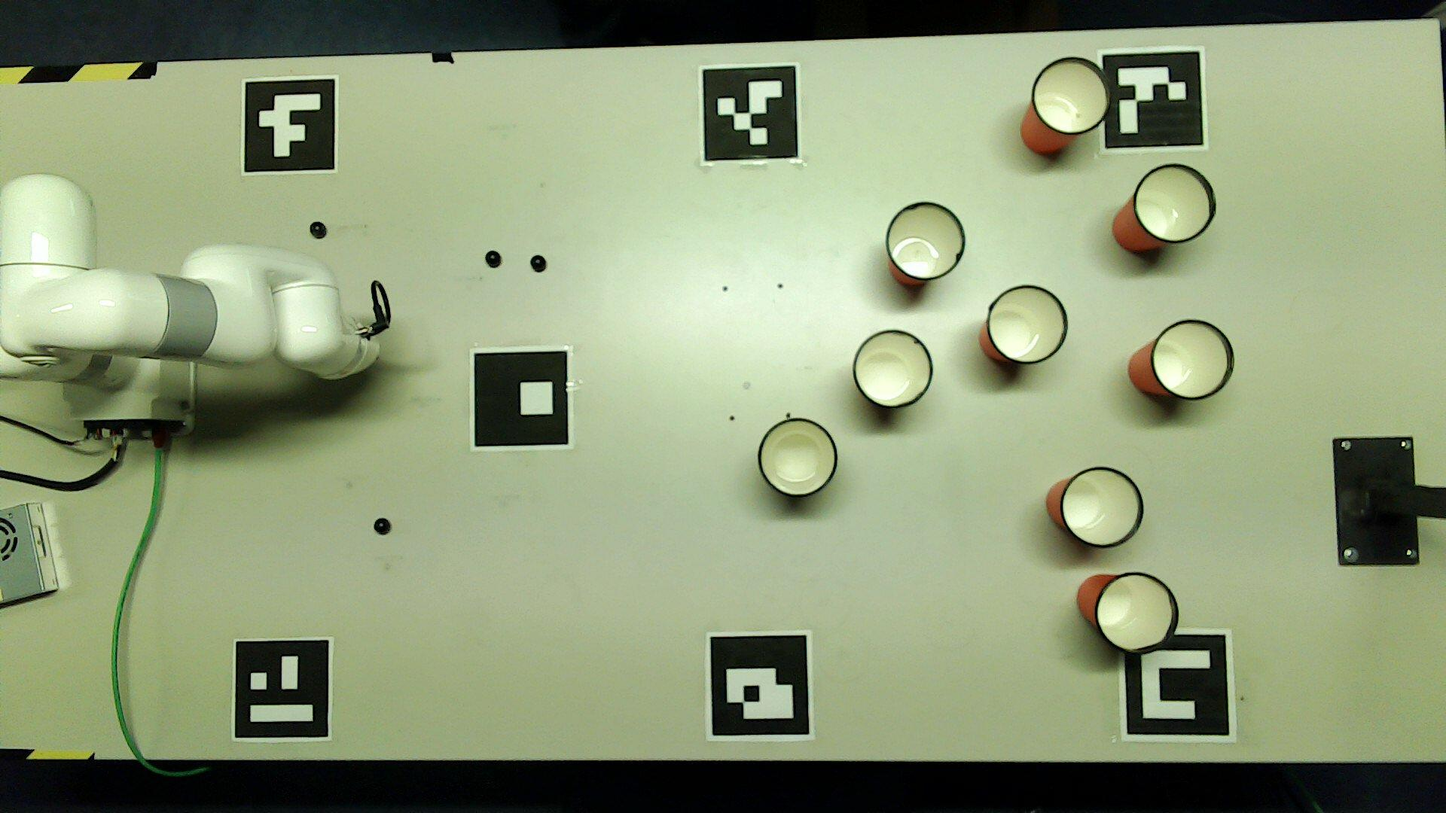ball: (310, 222, 326, 238), (487, 252, 500, 266), (532, 257, 544, 271), (376, 520, 388, 533)
cup: (1063, 468, 1141, 546), (1097, 574, 1175, 651), (1153, 321, 1231, 397), (855, 332, 931, 407), (990, 286, 1066, 361), (1137, 167, 1213, 241), (760, 420, 835, 494), (889, 204, 963, 278), (1034, 59, 1108, 132)
